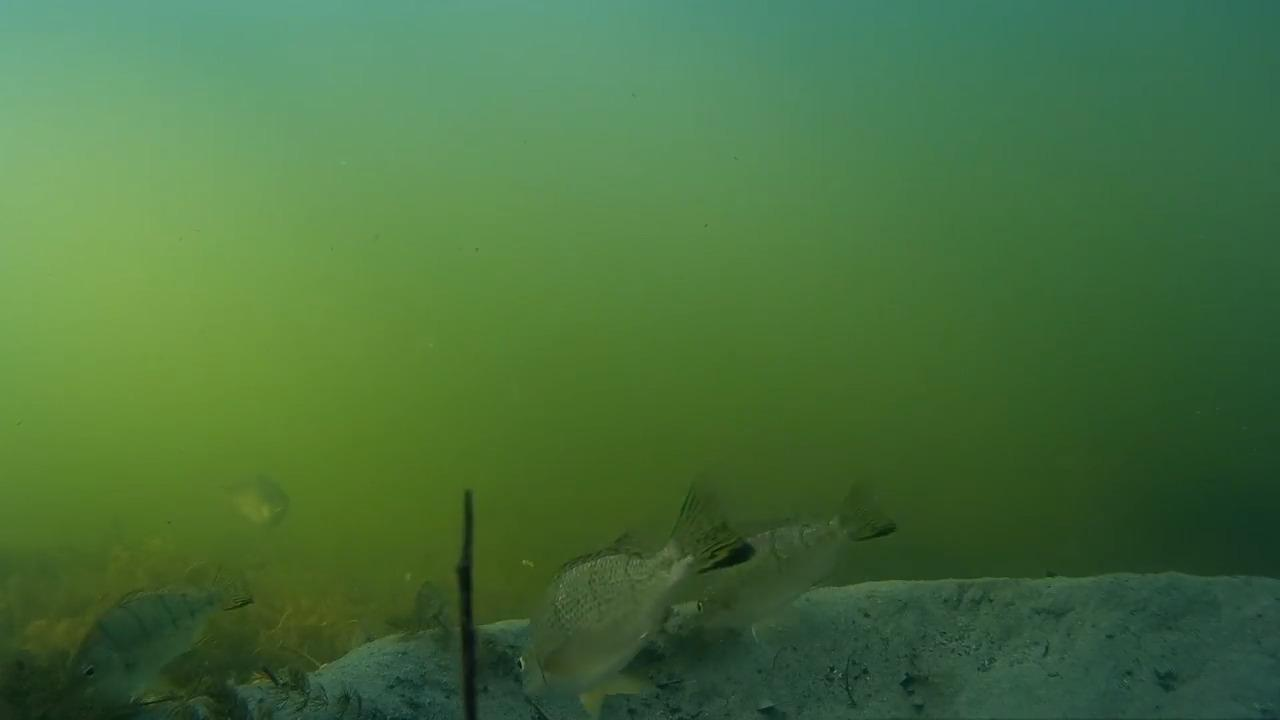Tilapia: (524, 475, 781, 707), (688, 474, 941, 656), (12, 574, 270, 715), (216, 462, 311, 536)
